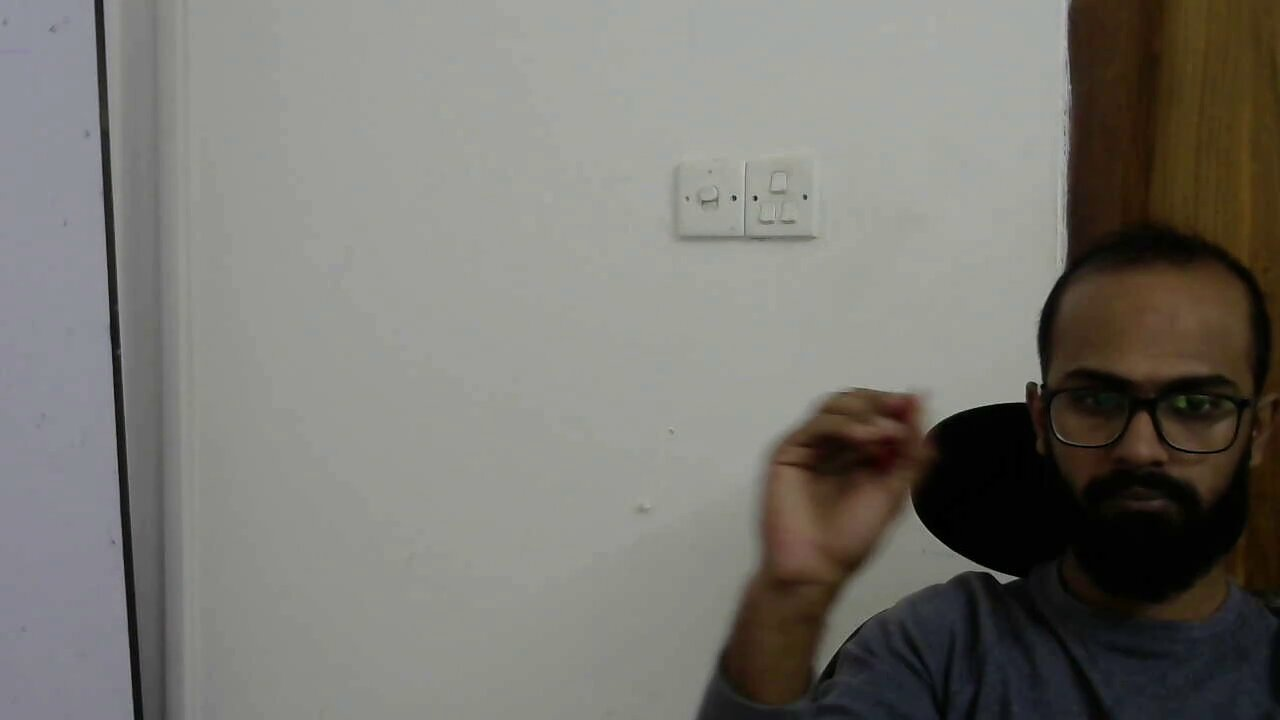pointer: (770, 386, 933, 539)
